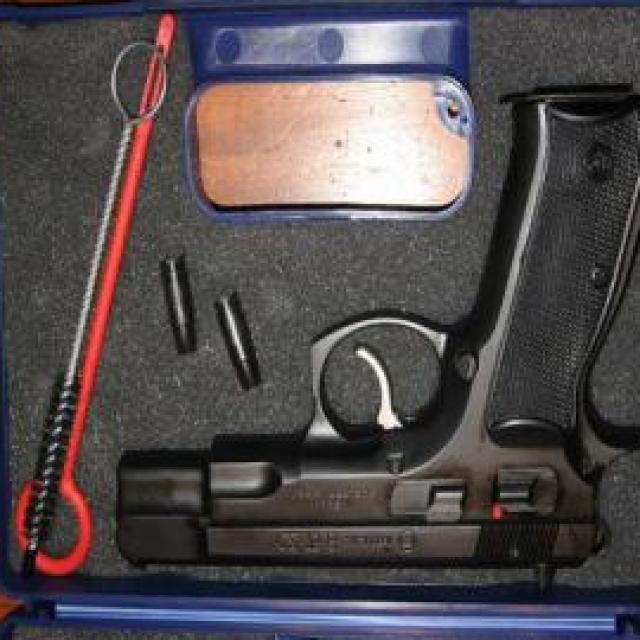pistol: (114, 87, 640, 574)
